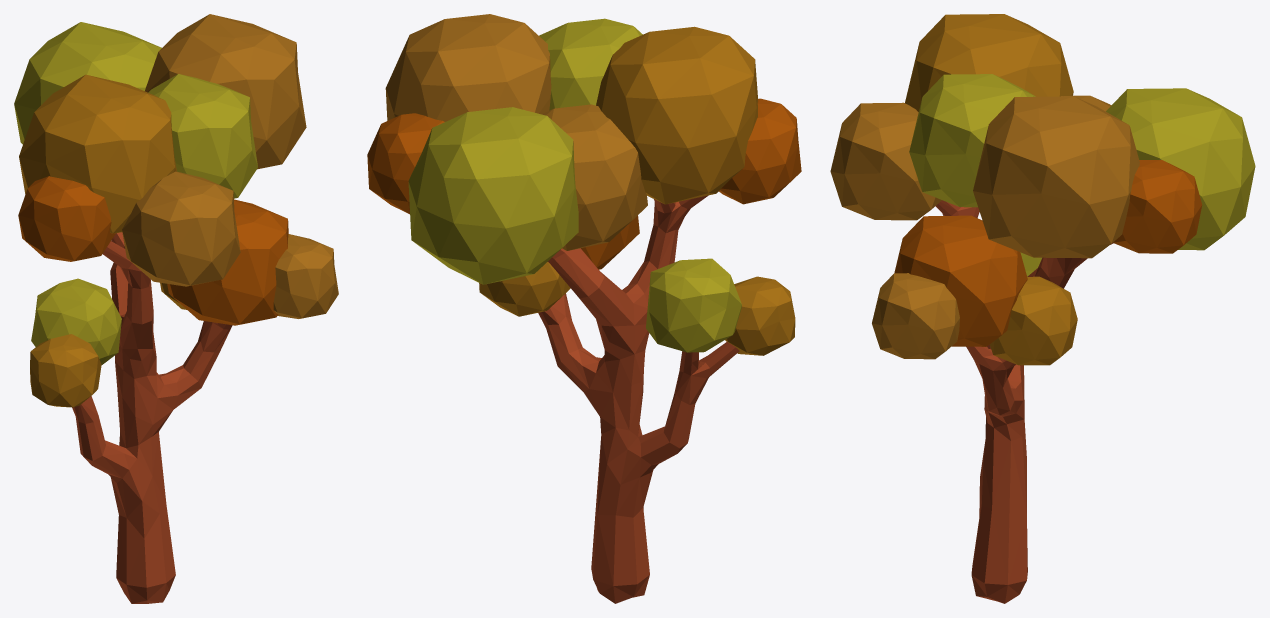
File: treeMedium1.obj
The picture shows the model from 3 angles, left to right: view 1: azimuth 30°, elevation 25°; view 2: azimuth 150°, elevation 25°; view 3: azimuth 270°, elevation 25°; orthographic projection. The views are drawn at different scales.
Parts seen in each view (by area): view 1: Cube_Cube.003, Icosphere_Icosphere.006, Icosphere.003_Icosphere.009, Icosphere.002_Icosphere.008, Icosphere.009_Icosphere.015, Icosphere.004_Icosphere.010, Icosphere.005_Icosphere.011, Icosphere.001_Icosphere.007, Icosphere.007_Icosphere.013, Icosphere.012_Icosphere.018, Icosphere.008_Icosphere.014; view 2: Cube_Cube.003, Icosphere.004_Icosphere.010, Icosphere_Icosphere.006, Icosphere.003_Icosphere.009, Icosphere.010_Icosphere.016, Icosphere.007_Icosphere.013, Icosphere.009_Icosphere.015, Icosphere.001_Icosphere.007, Icosphere.011_Icosphere.017, Icosphere.008_Icosphere.014, Icosphere.006_Icosphere.012, Icosphere.005_Icosphere.011; view 3: Icosphere.003_Icosphere.009, Cube_Cube.003, Icosphere.004_Icosphere.010, Icosphere.005_Icosphere.011, Icosphere_Icosphere.006, Icosphere.009_Icosphere.015, Icosphere.002_Icosphere.008, Icosphere.012_Icosphere.018, Icosphere.011_Icosphere.017, Icosphere.006_Icosphere.012.
Boxes of the visible parts, x1,y1,x2,y2 form: Cube_Cube.003: (72, 232, 232, 603); Icosphere_Icosphere.006: (19, 74, 176, 233); Icosphere.003_Icosphere.009: (145, 14, 306, 169); Icosphere.002_Icosphere.008: (122, 171, 240, 286); Icosphere.009_Icosphere.015: (148, 74, 257, 198); Icosphere.004_Icosphere.010: (14, 22, 161, 144); Icosphere.005_Icosphere.011: (167, 199, 288, 325); Icosphere.001_Icosphere.007: (18, 176, 115, 261); Icosphere.007_Icosphere.013: (31, 278, 121, 364); Icosphere.012_Icosphere.018: (273, 234, 338, 318); Icosphere.008_Icosphere.014: (30, 334, 101, 407); Cube_Cube.003: (538, 195, 739, 603); Icosphere.004_Icosphere.010: (408, 107, 578, 284); Icosphere_Icosphere.006: (596, 26, 757, 204); Icosphere.003_Icosphere.009: (385, 14, 551, 121); Icosphere.010_Icosphere.016: (542, 104, 647, 250); Icosphere.007_Icosphere.013: (646, 258, 741, 352); Icosphere.009_Icosphere.015: (539, 18, 642, 110); Icosphere.001_Icosphere.007: (719, 98, 801, 204); Icosphere.011_Icosphere.017: (367, 113, 444, 214); Icosphere.008_Icosphere.014: (725, 276, 795, 355); Icosphere.006_Icosphere.012: (479, 262, 570, 316); Icosphere.005_Icosphere.011: (581, 215, 639, 269); Icosphere.003_Icosphere.009: (973, 96, 1139, 258); Cube_Cube.003: (935, 200, 1113, 603); Icosphere.004_Icosphere.010: (1106, 88, 1255, 250); Icosphere.005_Icosphere.011: (894, 215, 1027, 346); Icosphere_Icosphere.006: (905, 14, 1073, 111); Icosphere.009_Icosphere.015: (909, 74, 1035, 207); Icosphere.002_Icosphere.008: (830, 102, 941, 220); Icosphere.012_Icosphere.018: (872, 273, 959, 359); Icosphere.011_Icosphere.017: (1113, 160, 1202, 253); Icosphere.006_Icosphere.012: (989, 276, 1077, 365).
Bounding box in the file's own units: 2.98 × 4.75 × 3.32.
